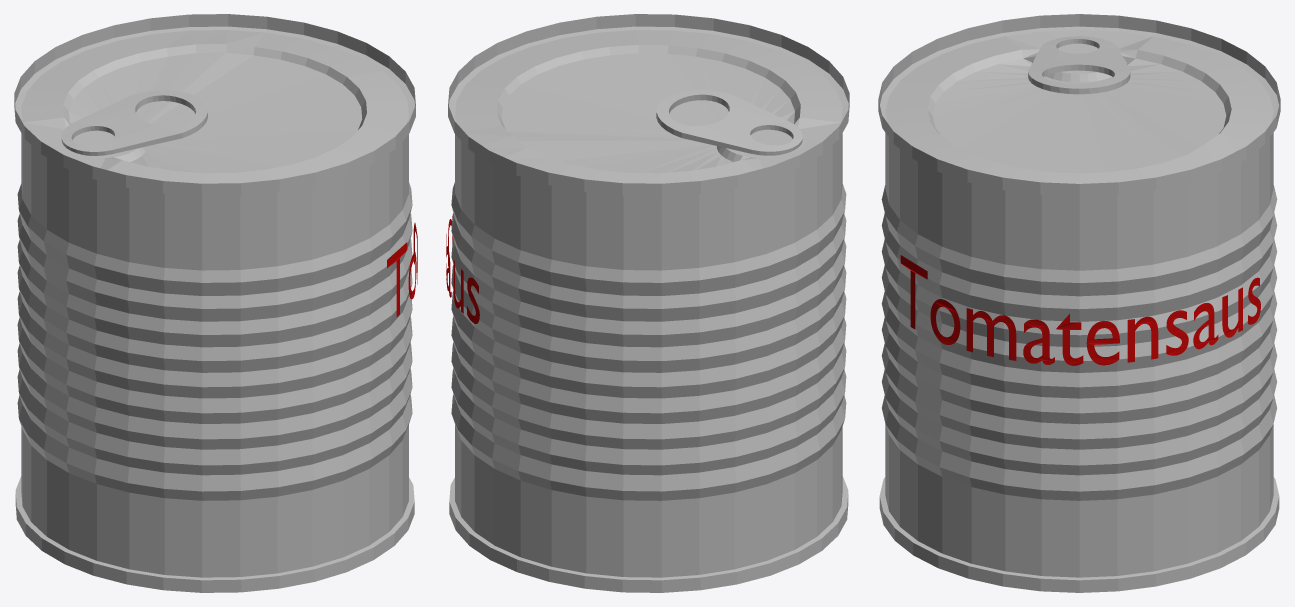
Rendered from blik.dae.
3 renders of one model, left to right at view 1: azimuth 30°, elevation 25°; view 2: azimuth 150°, elevation 25°; view 3: azimuth 270°, elevation 25°, orthographic.
Parts seen in each view (by area): view 1: Cylinder, Text; view 2: Cylinder, Text; view 3: Cylinder, Text.
Part boxes in pixels (<box>): Cylinder: <box>14,14,415,592</box>; Text: <box>387,223,417,317</box>; Cylinder: <box>448,14,849,592</box>; Text: <box>446,216,479,323</box>; Cylinder: <box>878,14,1280,592</box>; Text: <box>900,255,1260,365</box>.
Bounding box in the file's own units: 2.08 × 2.07 × 2.35.
